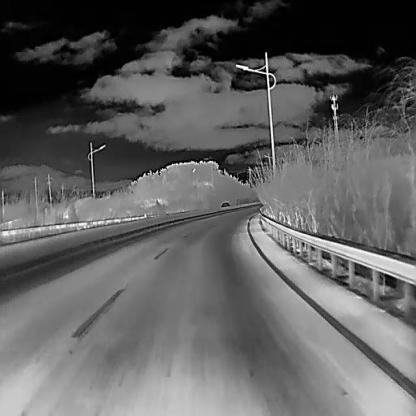car: (222, 202, 228, 207)
